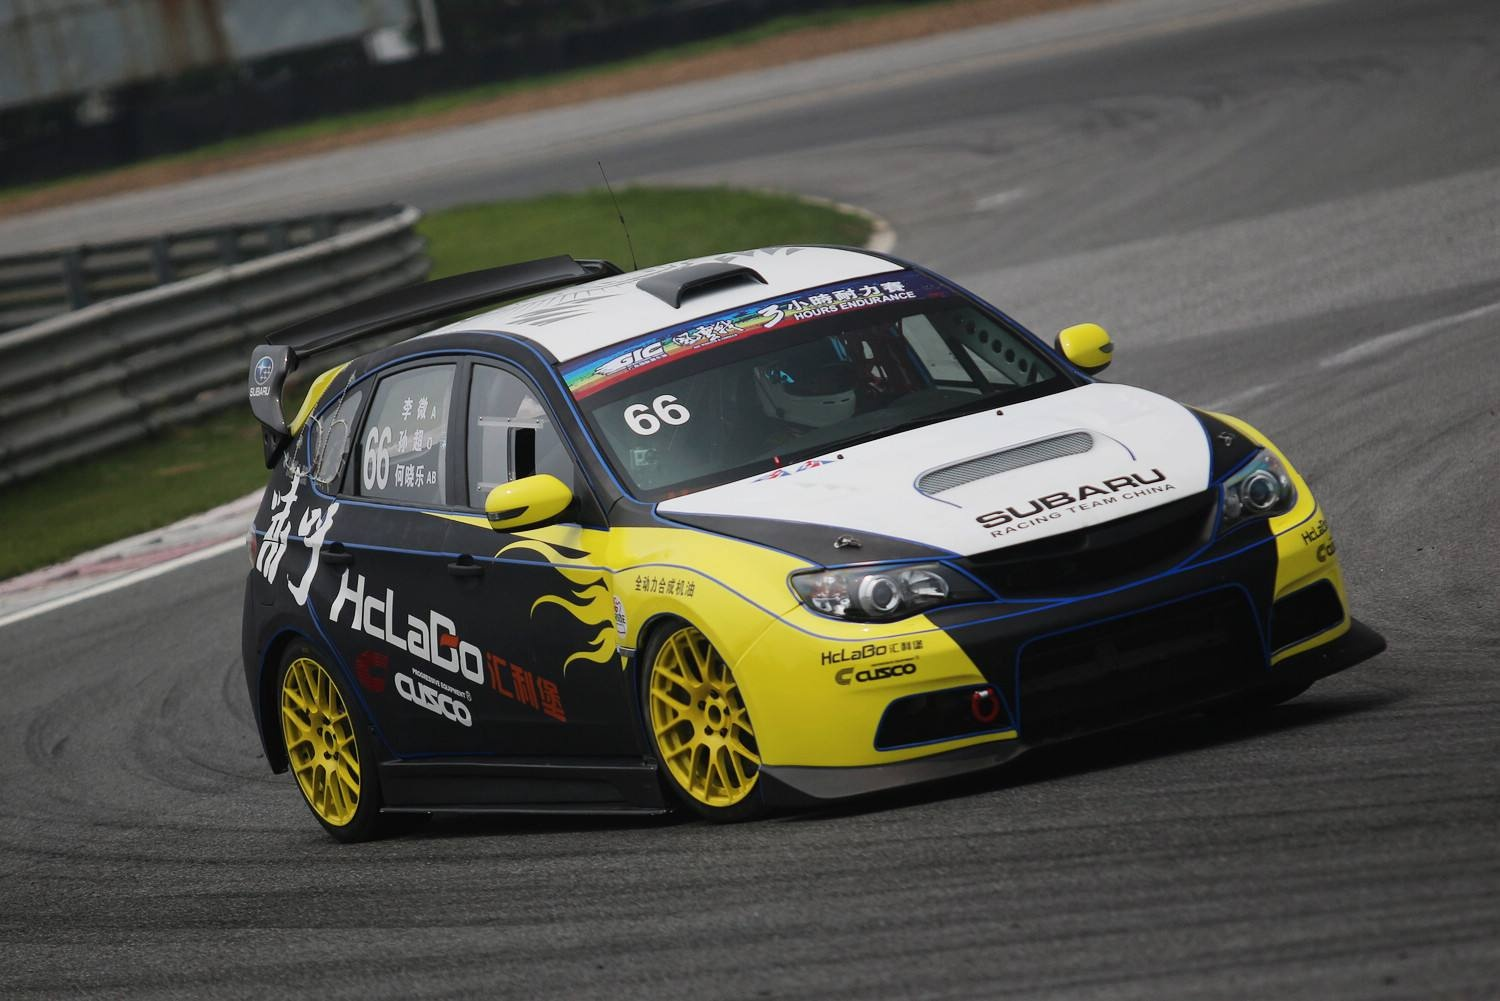racing car: (214, 221, 1349, 828)
